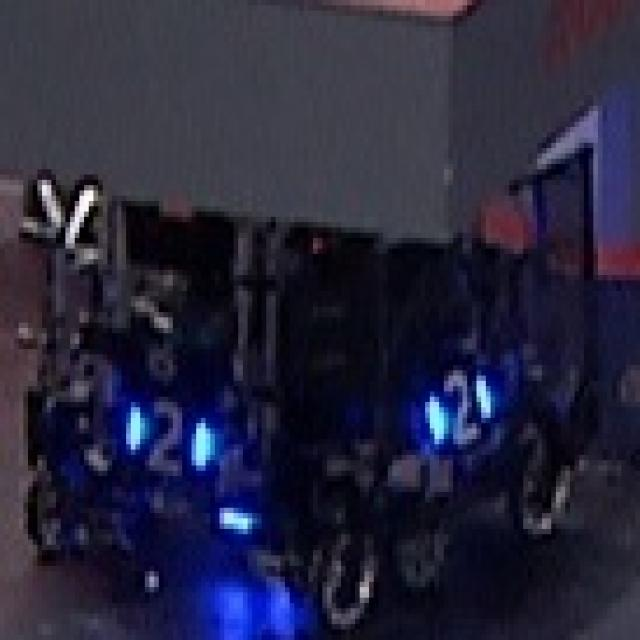B2: (112, 394, 215, 468), (413, 360, 498, 439)
